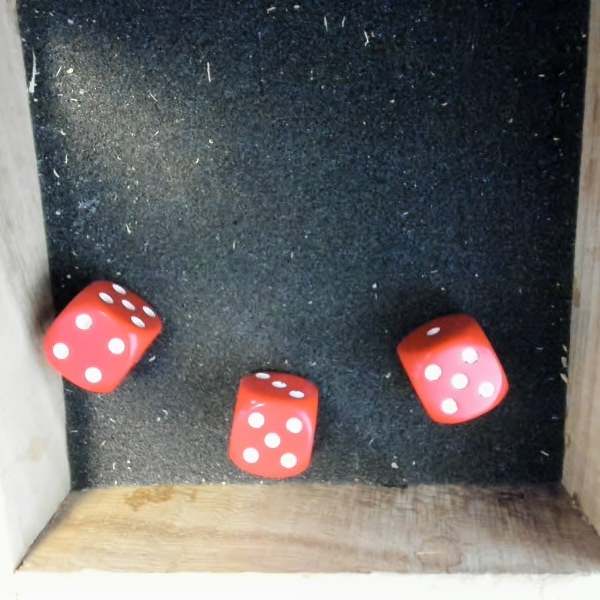red_die_pip4: (24, 264, 175, 417)
red_die_pip5: (384, 295, 519, 437), (226, 357, 324, 481)
